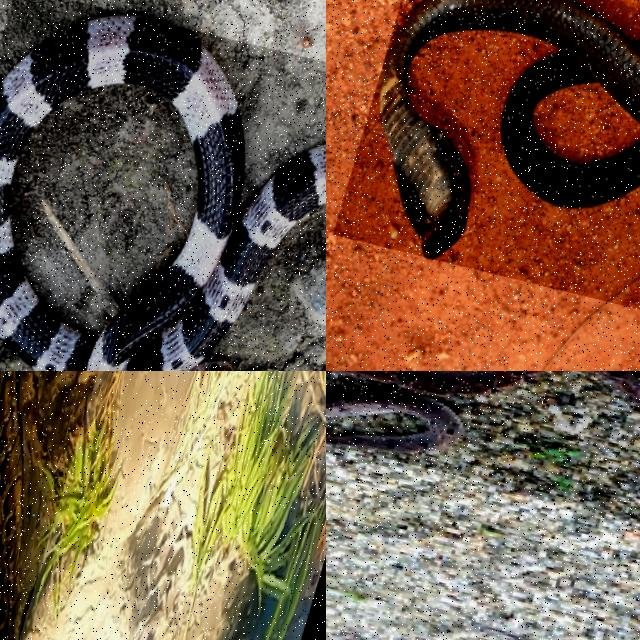Bungarus candidus: (0, 15, 325, 370)
Calloselasma rhodostoma: (326, 371, 547, 453)
Naja siamensis: (379, 0, 639, 257)
Python bivittatus: (0, 371, 23, 639)
